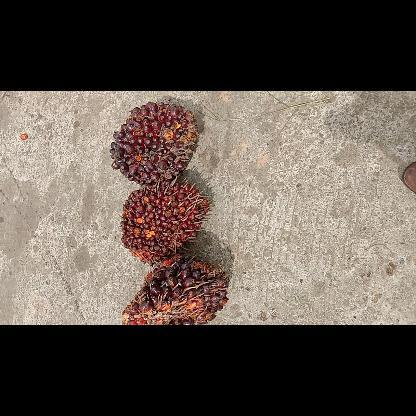Kurang masak: (119, 186, 211, 263)
TBS masak: (108, 102, 200, 184), (121, 260, 228, 324)
